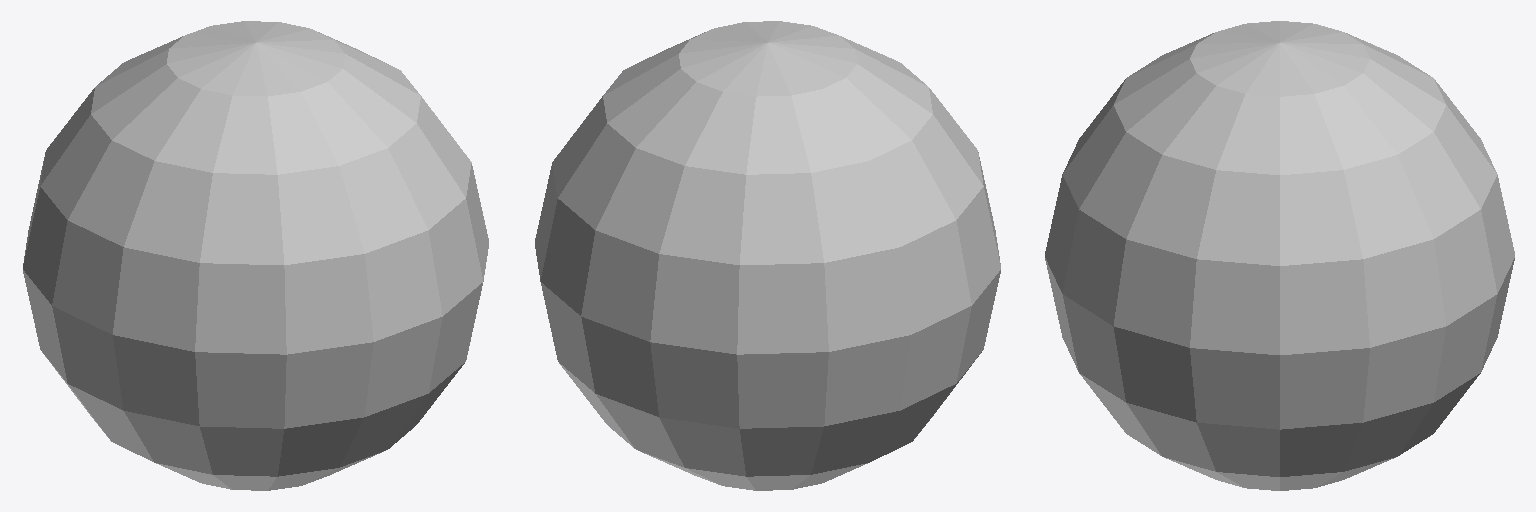
Rendered from bola13.obj.
3 views of the same model, side by side, from view 1: azimuth 30°, elevation 25°; view 2: azimuth 150°, elevation 25°; view 3: azimuth 270°, elevation 25° (orthographic).
Visible parts, largest first — view 1: POOL_TABLE.035; view 2: POOL_TABLE.035; view 3: POOL_TABLE.035.
Part boxes in pixels (x1,y1,x2,y2): POOL_TABLE.035: (23, 21, 488, 490); POOL_TABLE.035: (535, 21, 1000, 490); POOL_TABLE.035: (1045, 21, 1514, 490).
Bounding box in the file's own units: 0.0585 × 0.0585 × 0.0585.